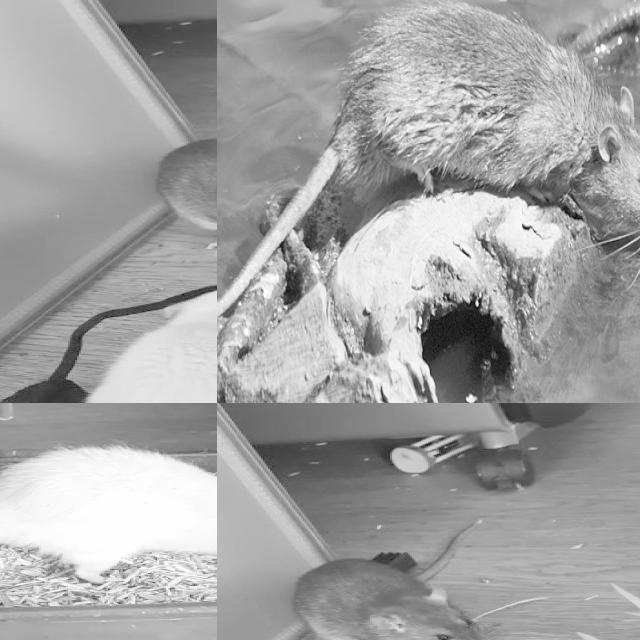rat: (337, 0, 640, 236), (0, 447, 217, 577), (292, 550, 503, 640), (98, 283, 217, 403), (154, 135, 217, 264)
